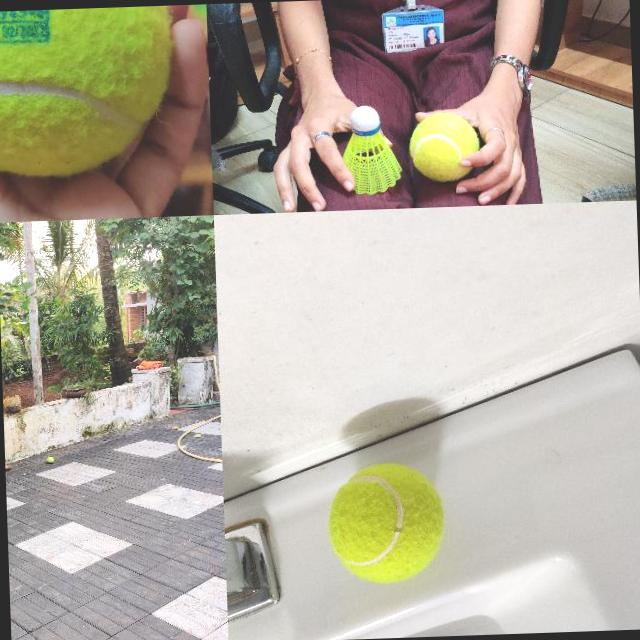tennis-ball: (0, 5, 175, 177), (324, 459, 447, 586), (409, 112, 479, 182), (46, 456, 54, 464)
